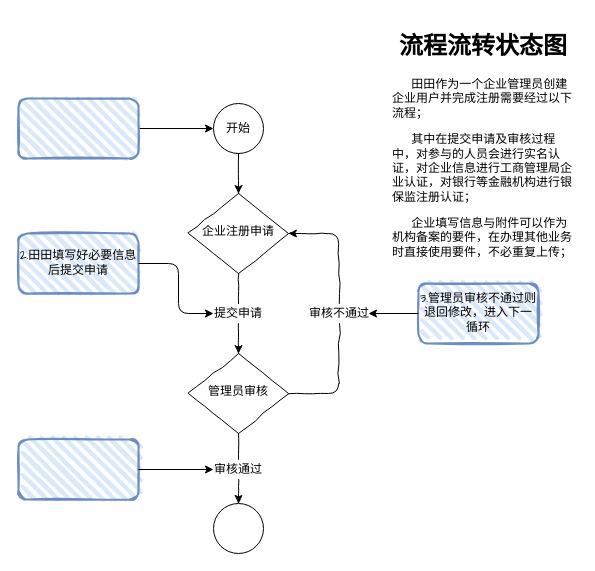
This 595x571 diagram has some shape labels left out. The shapes that lost their labels are listed below. From the top down, each one's centre as x and y in pixels, then its label:
(x=78, y=128): 1.田田作为企业管理员注册一个企业账号
(x=78, y=469): 3.管理员审核通过则流程结束
(x=238, y=528): 结束
